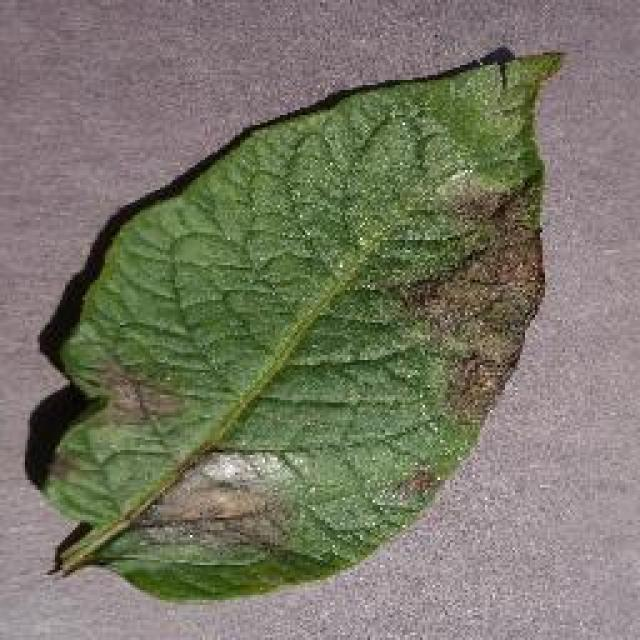late_blight: (32, 43, 568, 605)
